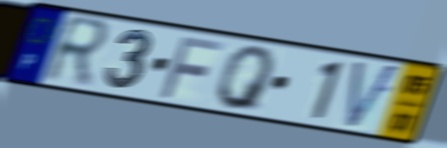1: (310, 59, 349, 121)
3: (103, 27, 155, 92)
F: (157, 33, 228, 101)
Q: (215, 45, 278, 114)
R: (40, 13, 114, 91)
V: (343, 58, 404, 133)
